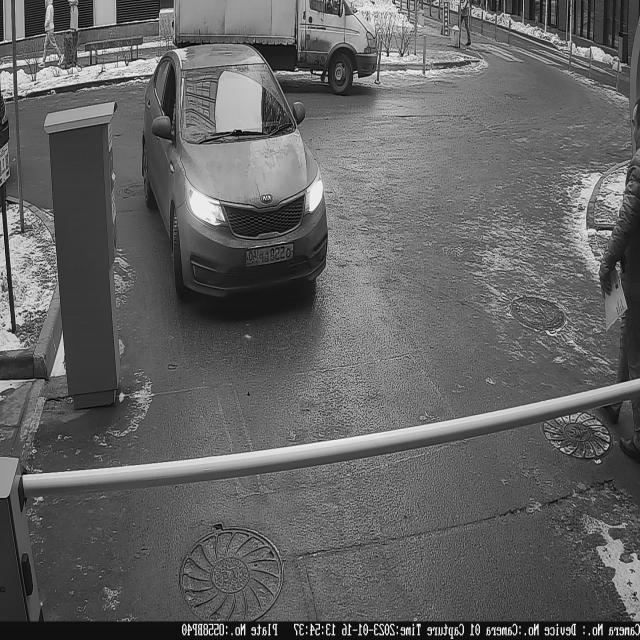car-plate-numbers: (243, 238, 298, 273)
